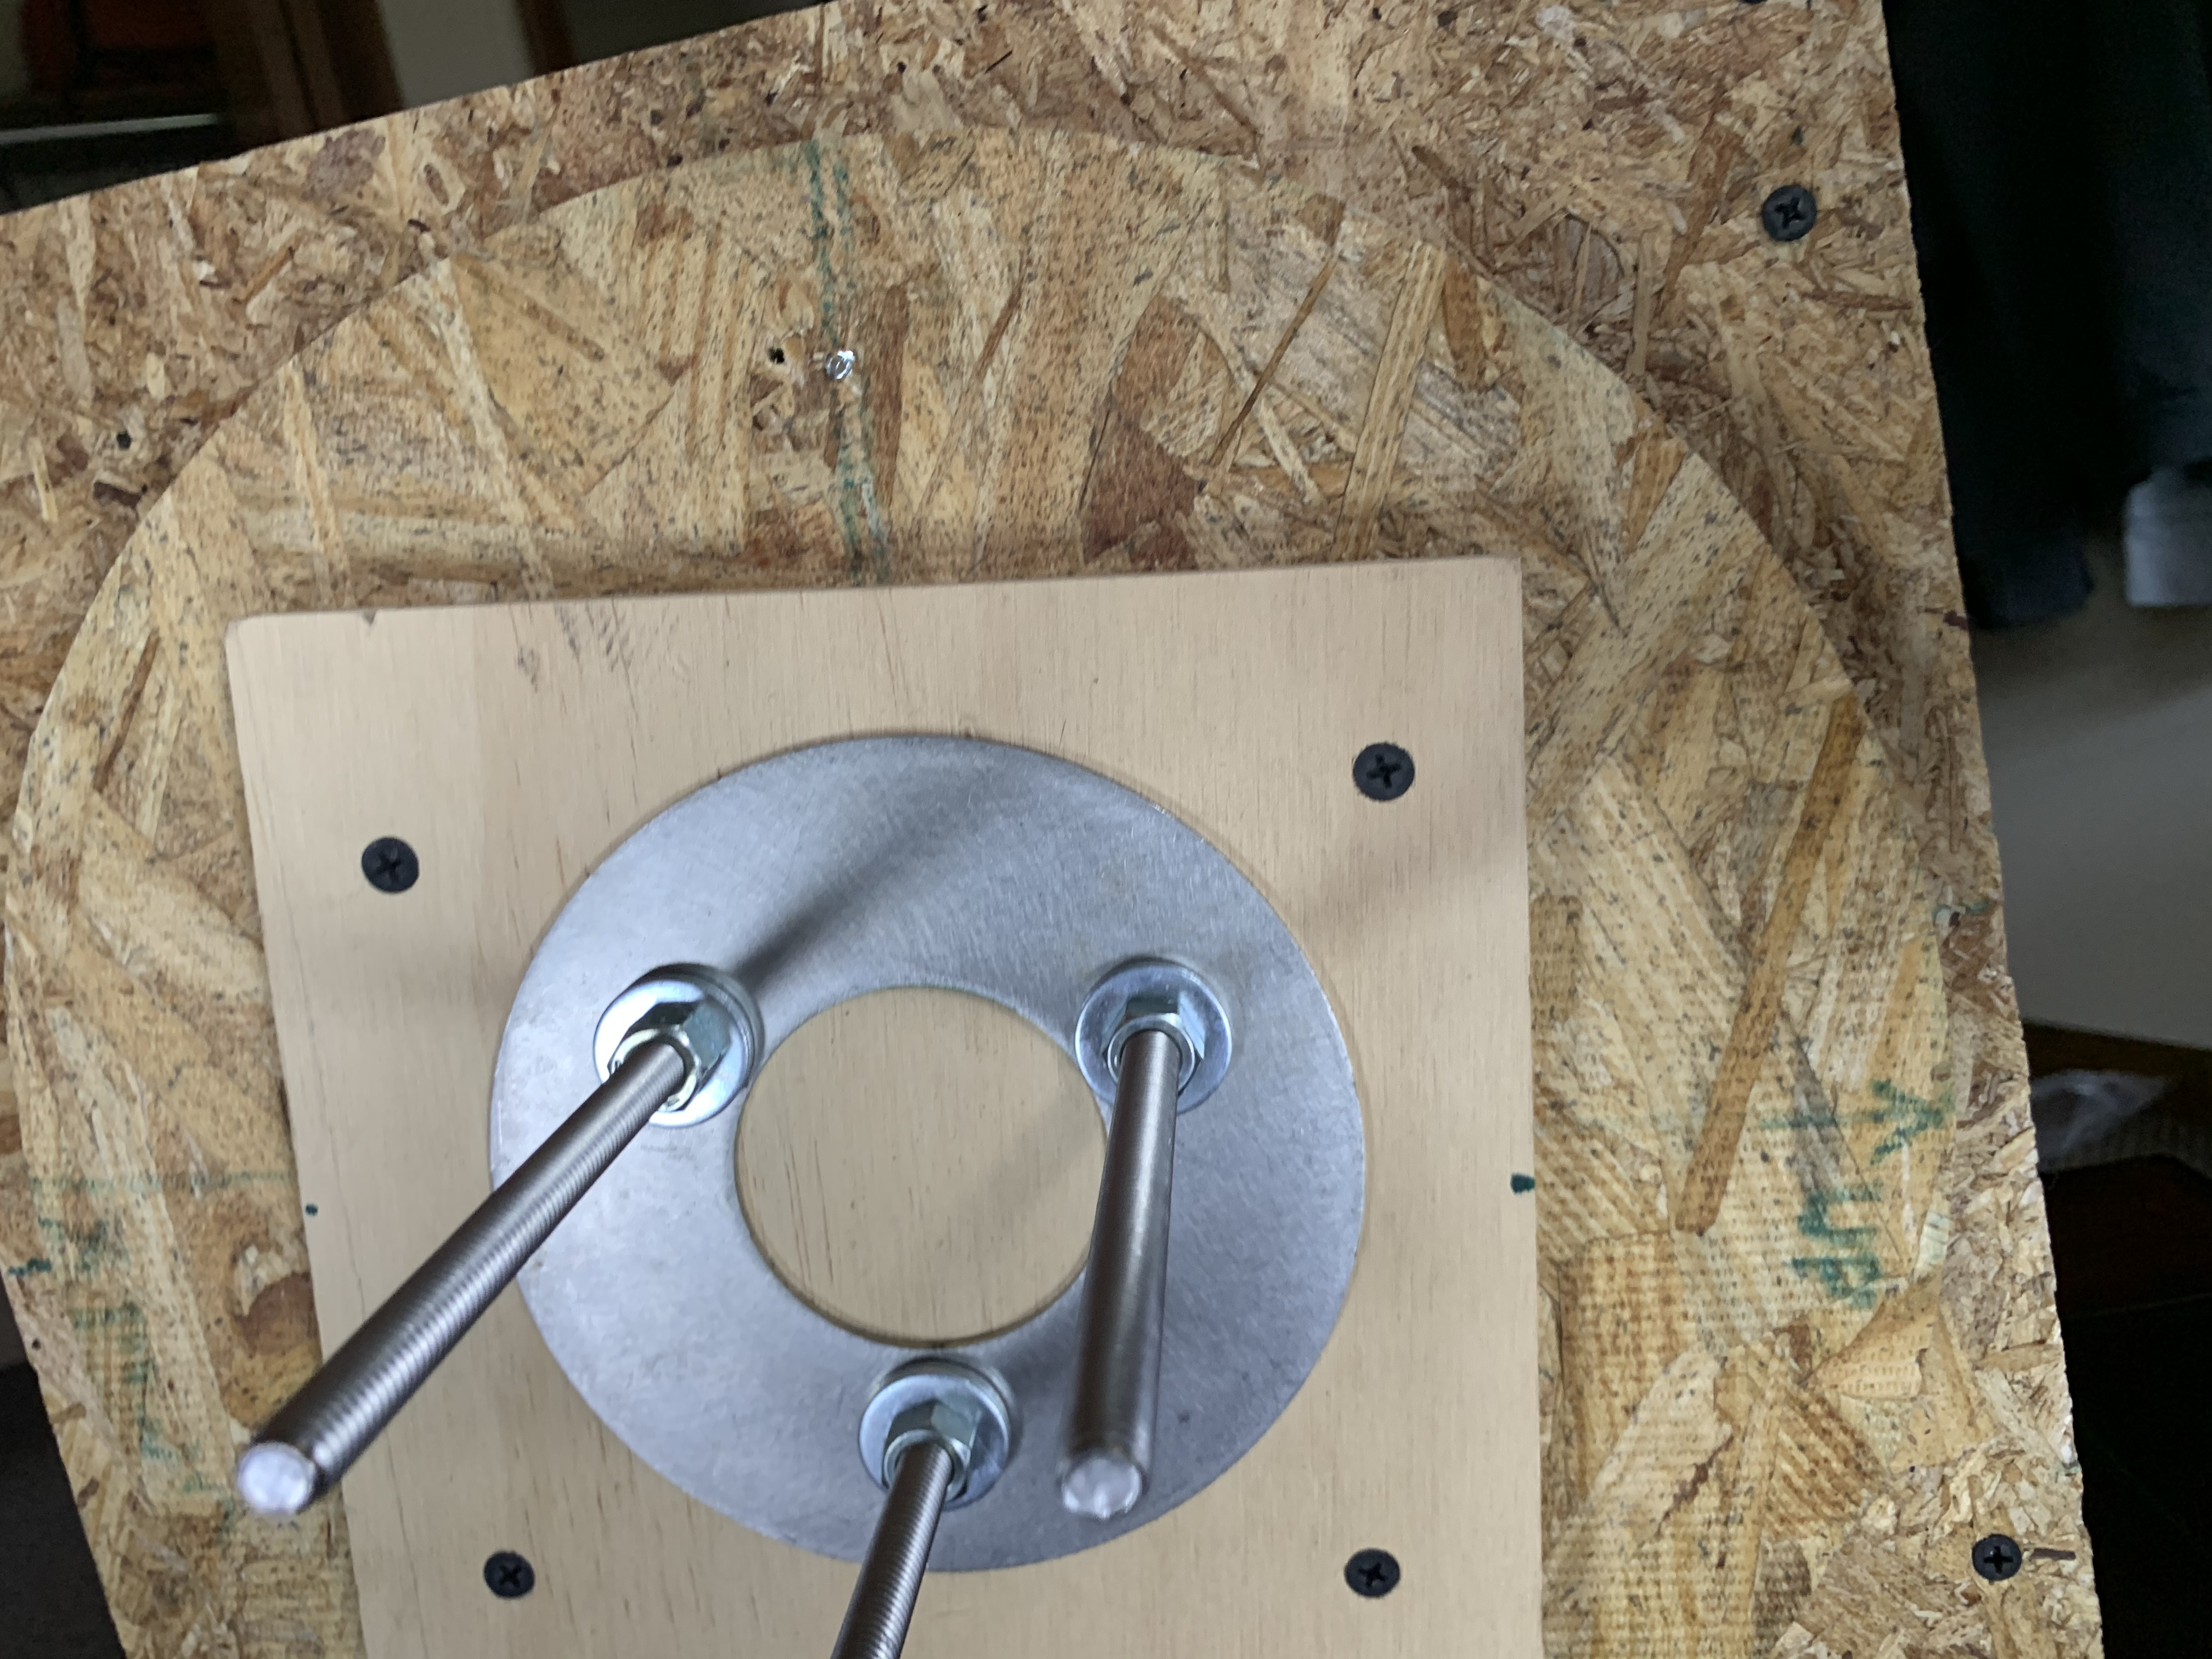bolt: (589, 969, 763, 1131), (1071, 958, 1238, 1121), (855, 1361, 1024, 1507)
